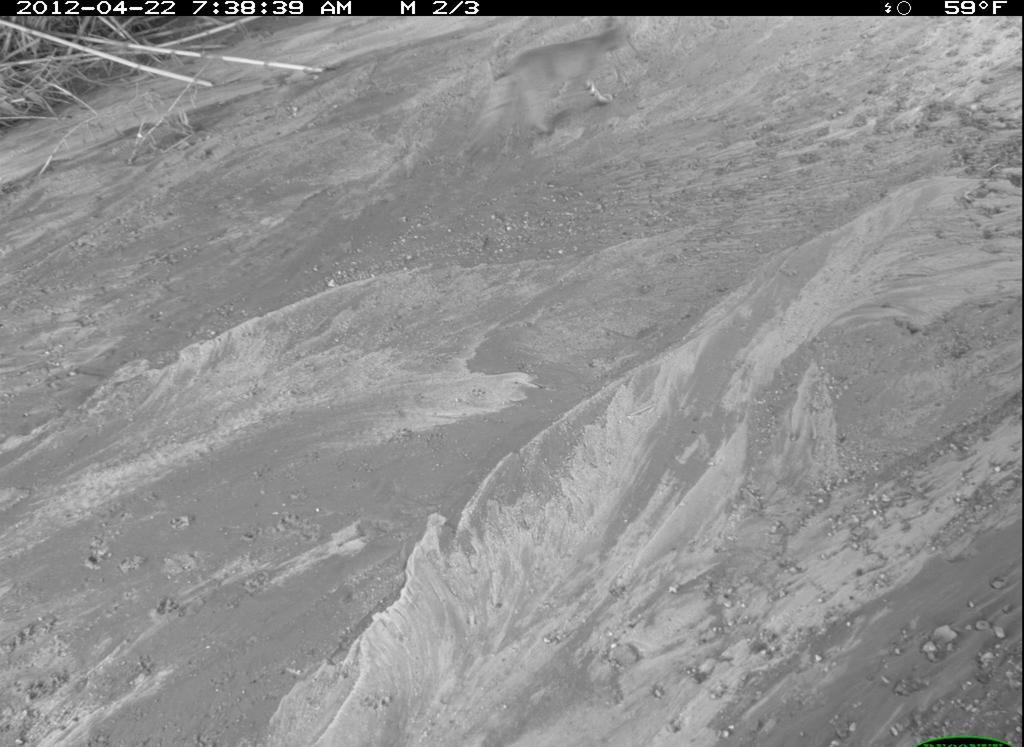bobcat: (924, 31, 1024, 333)
